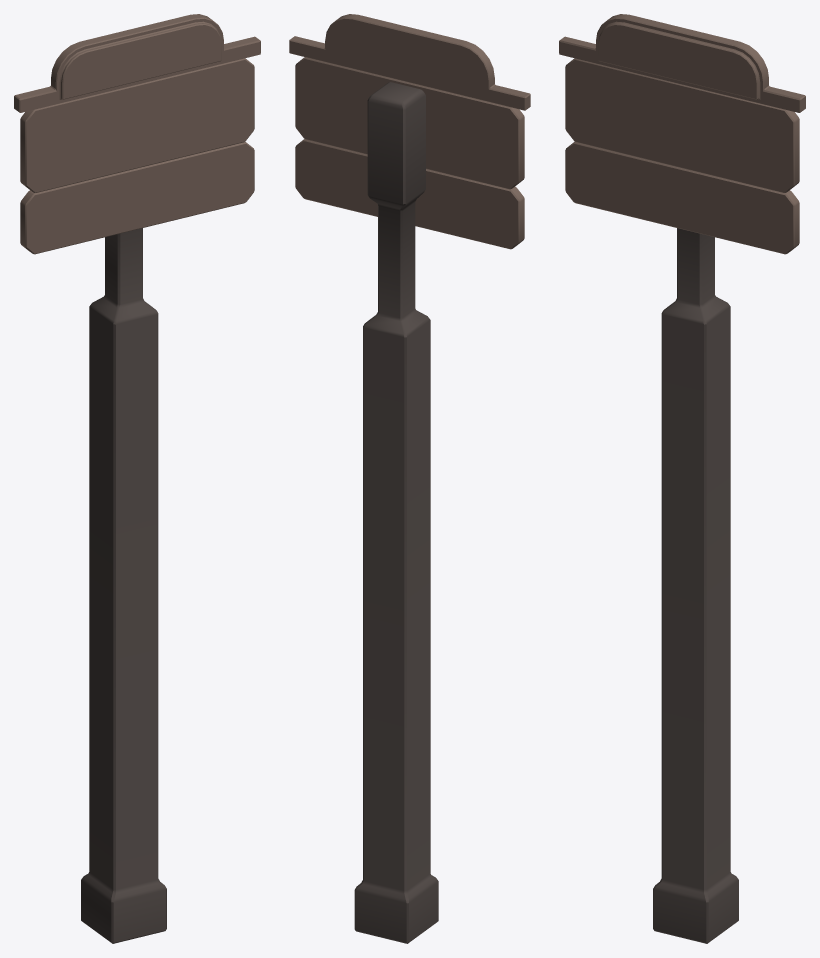
Rendered from props_70.glb.
The picture shows the model from 3 angles, left to right: view 1: azimuth 30°, elevation 25°; view 2: azimuth 150°, elevation 25°; view 3: azimuth 330°, elevation 25°; orthographic projection. The views are drawn at different scales.
Parts seen in each view (by area): view 1: props_70; view 2: props_70; view 3: props_70.
Boxes of the visible parts, bbox=[...] form: props_70: bbox=[14, 14, 260, 943]; props_70: bbox=[289, 14, 530, 943]; props_70: bbox=[559, 14, 805, 943].
Size of the model in its own units: 0.7722 by 2.77 by 0.1911.
1 material, 1 textured.
